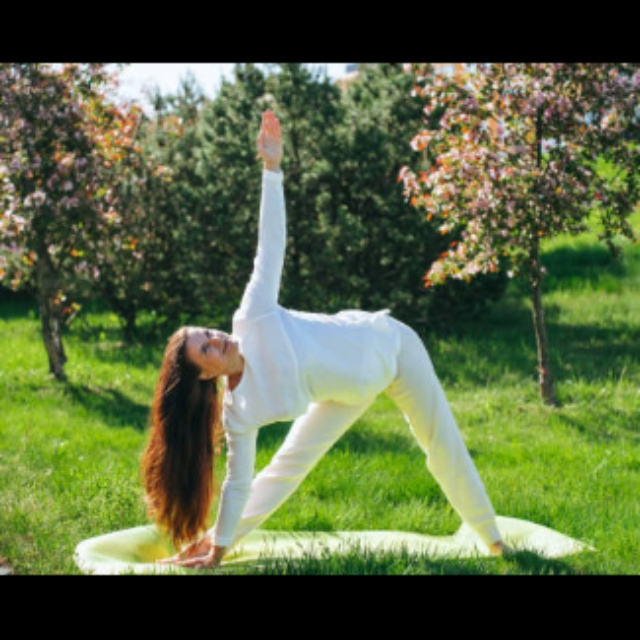Triangle_Pose: (136, 105, 541, 573)
